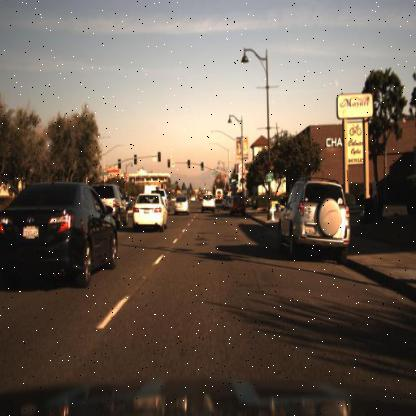car: (0, 180, 120, 286), (278, 175, 352, 256), (96, 181, 128, 228), (131, 191, 166, 233), (227, 193, 248, 219), (173, 192, 188, 217), (201, 190, 215, 214)
